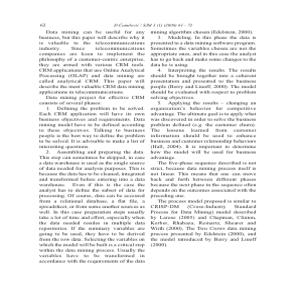text: (30, 29, 148, 268), (150, 28, 261, 252)
